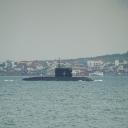submarine: (20, 67, 98, 83)
